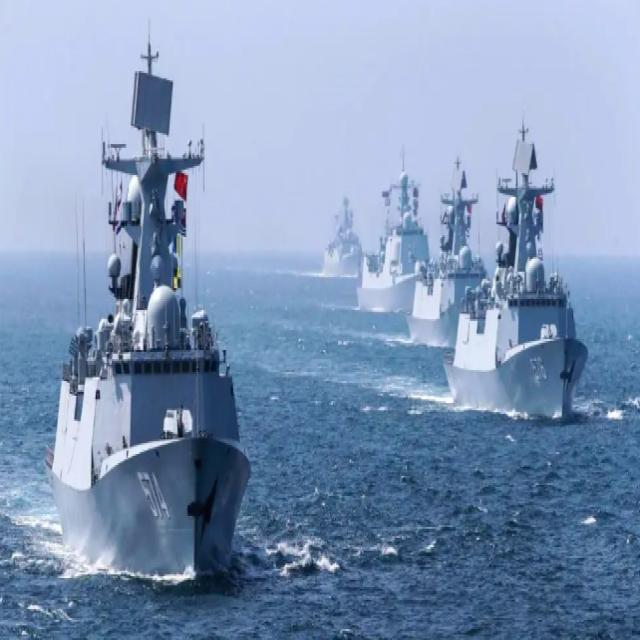navalvessels: (51, 42, 264, 566), (451, 113, 592, 414), (404, 159, 481, 331), (362, 162, 427, 310), (309, 205, 361, 280)
